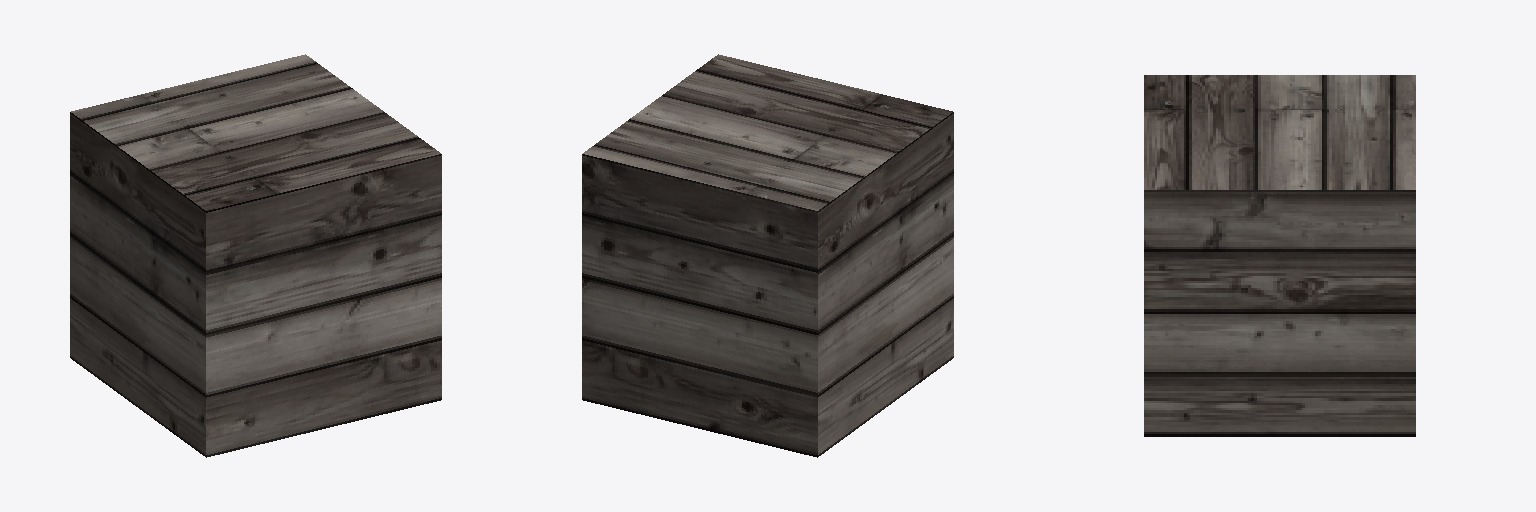
The picture shows the model from 3 angles: view 1: azimuth 30°, elevation 25°; view 2: azimuth 150°, elevation 25°; view 3: azimuth 270°, elevation 25°; orthographic projection.
Visible parts, largest first — view 1: UNITY_Plancher_Bois_Gris_90deg; view 2: UNITY_Plancher_Bois_Gris_90deg; view 3: UNITY_Plancher_Bois_Gris_90deg.
Part boxes in pixels (x1,y1,x2,y2): UNITY_Plancher_Bois_Gris_90deg: (70,54,441,457); UNITY_Plancher_Bois_Gris_90deg: (582,54,953,457); UNITY_Plancher_Bois_Gris_90deg: (1144,75,1415,436).
Size of the model in its own units: 1 by 1 by 1.
Materials: 1 (1 with a texture image).